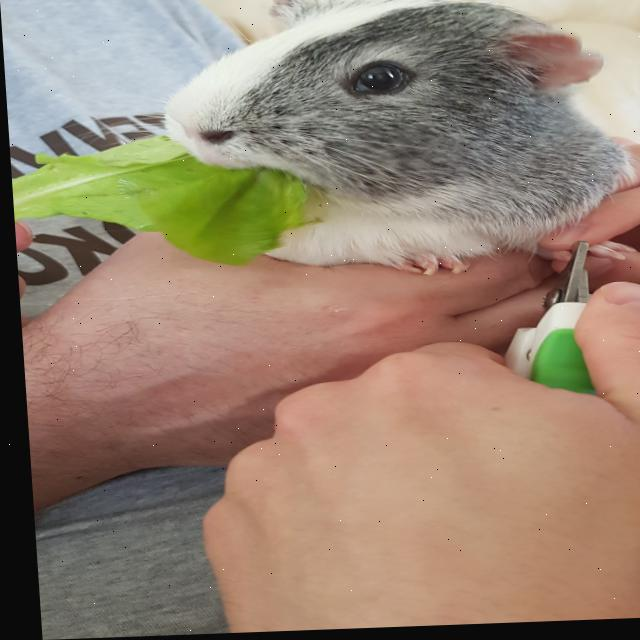guinea pig: (160, 0, 640, 292)
